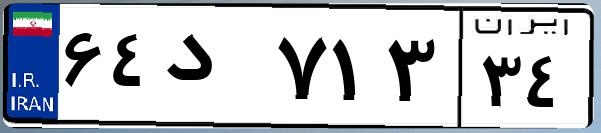1: (330, 28, 385, 110)
3: (385, 28, 445, 110), (475, 38, 525, 113)
4: (525, 38, 570, 115), (110, 28, 158, 98)
6: (57, 26, 110, 100)
7: (270, 28, 330, 110)
د: (158, 20, 270, 120)
